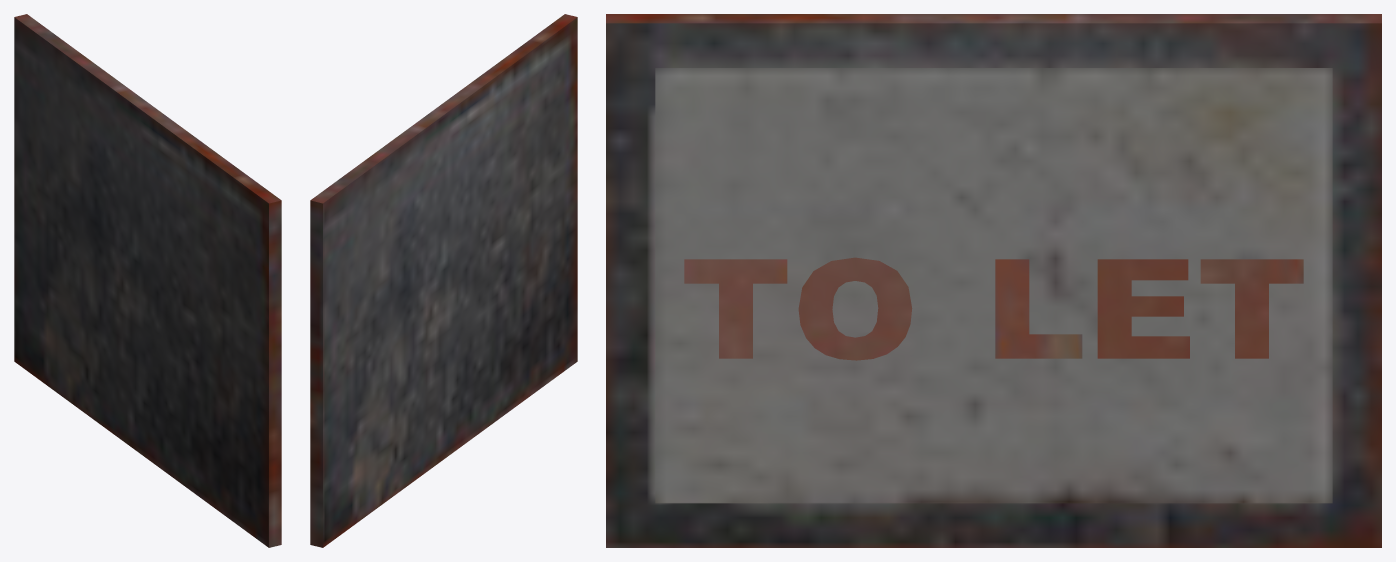
Rendered from ToLet_Advert.FBX.
The picture shows the model from 3 angles, left to right: view 1: azimuth 30°, elevation 25°; view 2: azimuth 150°, elevation 25°; view 3: azimuth 270°, elevation 25°; orthographic projection. The views are drawn at different scales.
Parts seen in each view (by area): view 1: ToLet_Advert; view 2: ToLet_Advert; view 3: ToLet_Advert.
Part boxes in pixels (x1,y1,x2,y2): ToLet_Advert: (14,14,281,547); ToLet_Advert: (310,14,577,547); ToLet_Advert: (606,14,1381,547).
Bounding box in the file's own units: 1.59 × 35.61 × 47.73.
